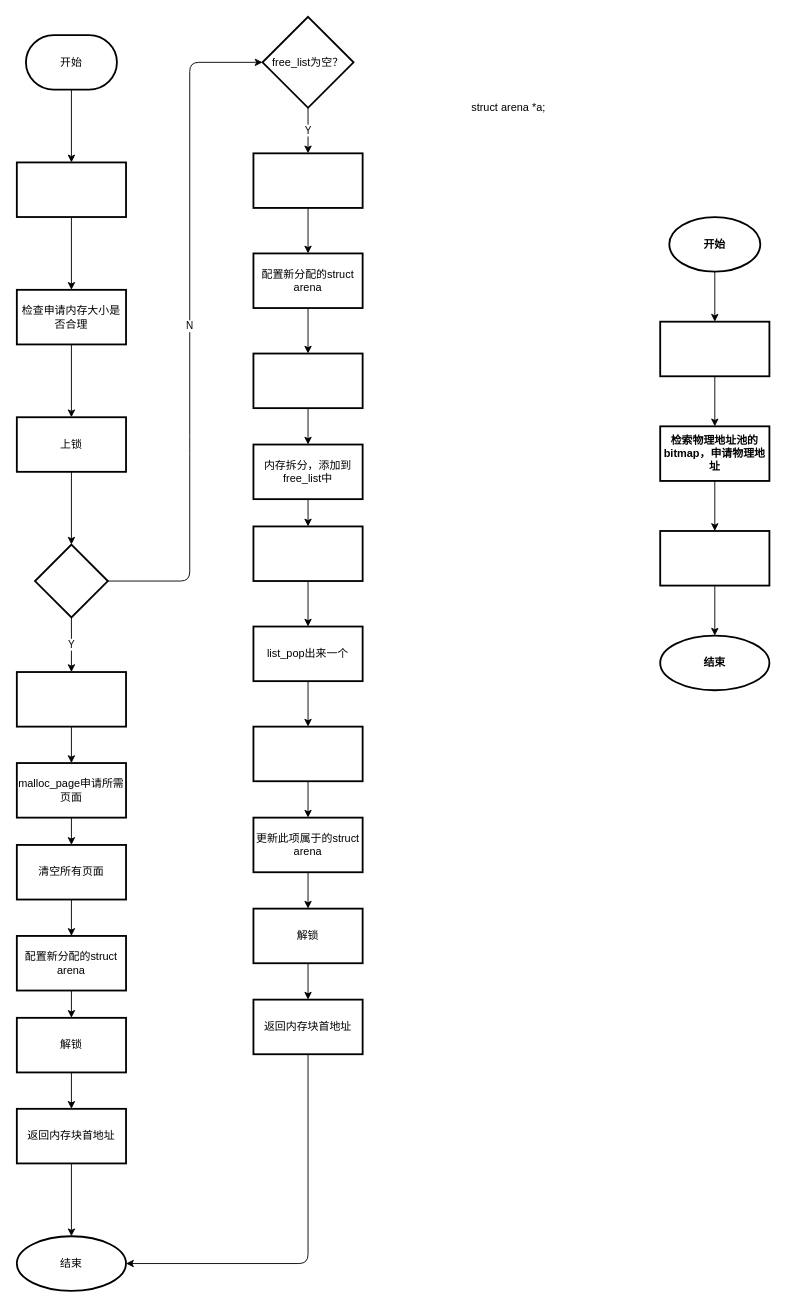
Image size: 785x1307. Some labels were removed from this diagram. The shapes that lost their labels are listed below. From the top down, each one's centre as x and y in pixels, then its label:
(70,189): 判断用哪个内存池
(307,180): malloc_page申请一块内存
(714,348): 检索虚拟地址池的bitmap，申请虚拟地址
(307,380): 关中断
(307,553): 恢复中断
(714,558): 更新页表，完成虚拟地址与物理地址的映射
(71,580): size>1024?
(70,699): 计算申请页面数
(307,753): 清空内存块
